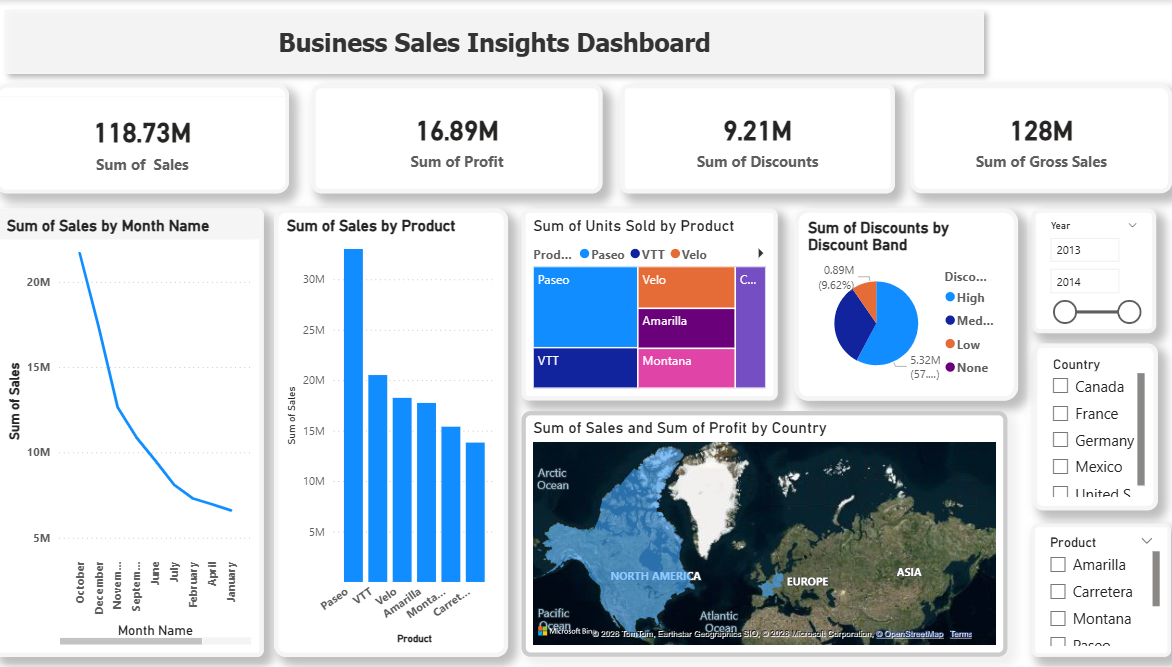

What the dashboard file says about the page in this screenshot:
{"tool":"powerbi","page":{"name":"Page 1","canvas":[1280,720],"ordinal":0},"visuals":[{"type":"shape","box":[9.7,0,1078.4,90.7],"z":0},{"type":"card","fields":{"Values":["Sum(Table2. Sales)"]},"box":[9.7,90.7,317.4,118.2],"z":1000},{"type":"card","fields":{"Values":["Sum(Table2.Profit)"]},"box":[351.4,90.7,314.1,118.2],"z":2000},{"type":"card","fields":{"Values":["Sum(Table2.Discounts)"]},"box":[684.9,90.7,296.3,118.2],"z":3000},{"type":"card","fields":{"Values":["Sum(Table2.Gross Sales)"]},"box":[997.4,90.7,283.4,118.2],"z":4000},{"type":"lineChart","fields":{"Category":["Table2.Month Name"],"Y":["Sum(Table2. Sales)"]},"box":[9.7,225.1,289.8,484.1],"z":5000},{"type":"clusteredColumnChart","fields":{"Category":["Table2.Product"],"Y":["Sum(Table2. Sales)"]},"box":[310.9,225.1,252.6,484.1],"z":6000},{"type":"treemap","fields":{"Values":["Sum(Table2.Units Sold)"],"Group":["Table2.Product"]},"box":[578.1,225.1,276.9,207.3],"z":7000},{"type":"slicer","fields":{"Values":["Table2.Year"]},"box":[1128.6,225.1,134.4,134.4],"z":8000},{"type":"slicer","fields":{"Values":["Table2.Country"]},"box":[1130.2,370.8,134.4,179.7],"z":9000},{"type":"slicer","fields":{"Values":["Table2.Product"]},"box":[1128.6,565.1,150.6,144.1],"z":10000},{"type":"pieChart","fields":{"Y":["Sum(Table2.Discounts)"],"Category":["Table2.Discount Band"]},"box":[872.8,225.1,241.3,207.3],"z":11000},{"type":"filledMap","fields":{"Category":["Table2.Country"]},"box":[578.1,443.7,524.6,265.6],"z":12000}]}

Visuals, with their boxes in screenshot pixels (x1, y1, x2, y2), scaled from the page's 1280x720 canvas onto the 1172x667 screenshot:
shape: select_region(9, 0, 996, 84)
card - Sum(Table2. Sales): select_region(9, 84, 300, 194)
card - Sum(Table2.Profit): select_region(322, 84, 609, 194)
card - Sum(Table2.Discounts): select_region(627, 84, 898, 194)
card - Sum(Table2.Gross Sales): select_region(913, 84, 1171, 194)
lineChart - Table2.Month Name x Sum(Table2. Sales): select_region(9, 209, 274, 657)
clusteredColumnChart - Table2.Product x Sum(Table2. Sales): select_region(285, 209, 516, 657)
treemap - Sum(Table2.Units Sold) x Table2.Product: select_region(529, 209, 783, 401)
slicer - Table2.Year: select_region(1033, 209, 1156, 333)
slicer - Table2.Country: select_region(1035, 344, 1158, 510)
slicer - Table2.Product: select_region(1033, 524, 1171, 657)
pieChart - Sum(Table2.Discounts) x Table2.Discount Band: select_region(799, 209, 1020, 401)
filledMap - Table2.Country: select_region(529, 411, 1010, 657)
